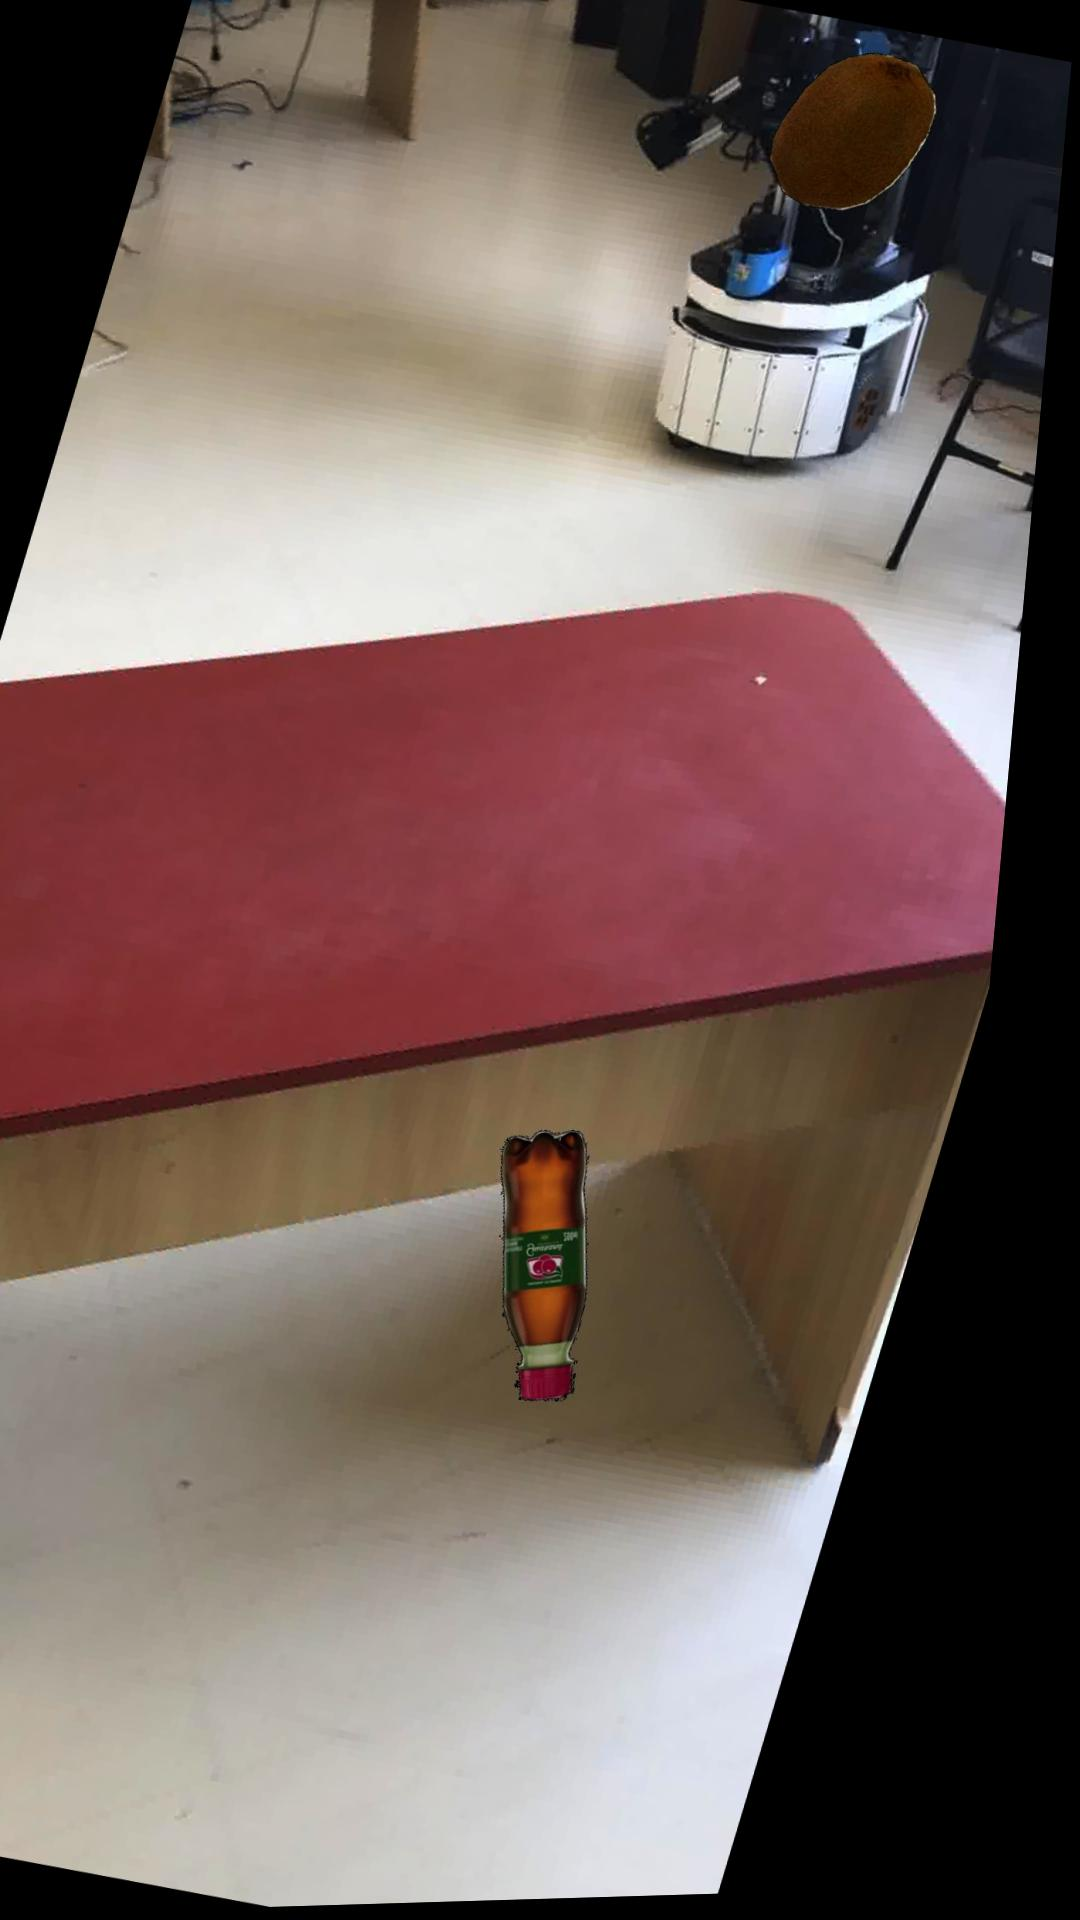guarana: (524, 1131, 612, 1403)
kiwi: (773, 55, 940, 215)
